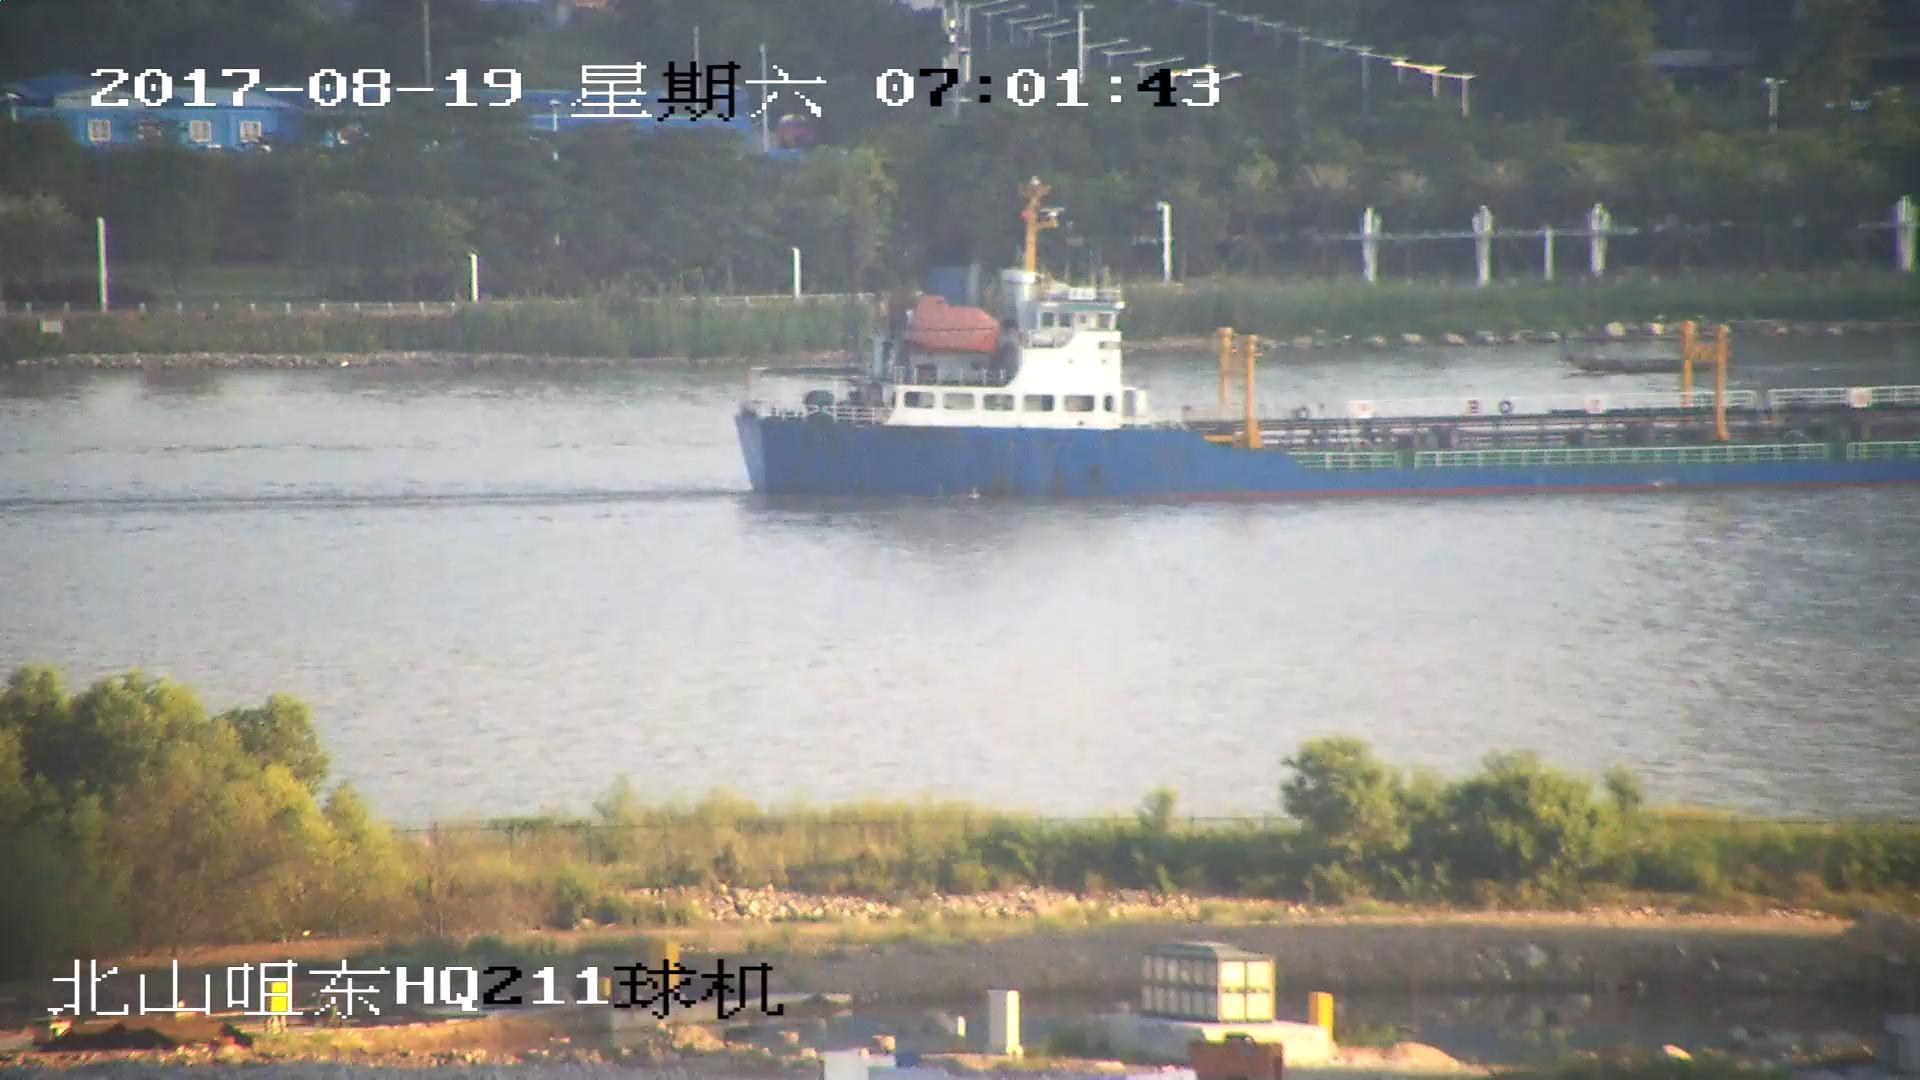Ship: (741, 202, 1920, 497)
